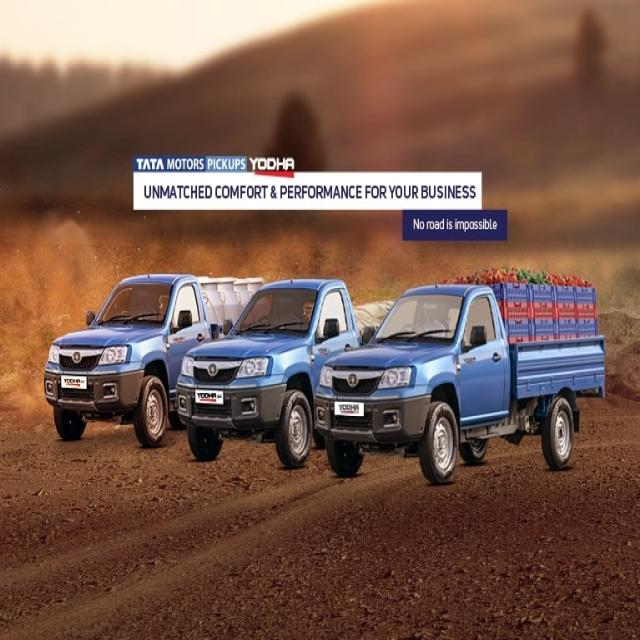light_vehicle: (320, 270, 605, 484), (186, 277, 314, 467), (47, 281, 166, 441)
